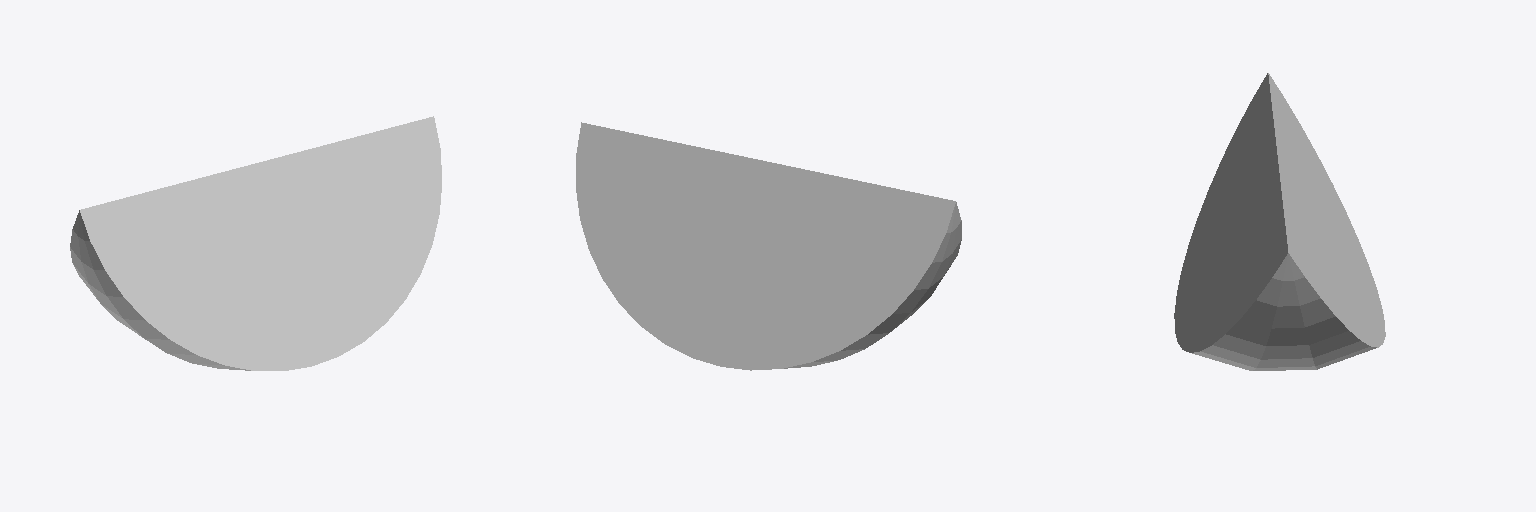
Rendered from watermelon_slice.obj.
3 views of the same model, side by side, from view 1: azimuth 30°, elevation 25°; view 2: azimuth 150°, elevation 25°; view 3: azimuth 270°, elevation 25° (orthographic).
Visible parts, largest first — view 1: Inst3D24_RefRep.189; view 2: Inst3D24_RefRep.189; view 3: Inst3D24_RefRep.189.
Boxes of the visible parts, x1,y1,x2,y2 form: Inst3D24_RefRep.189: [70, 116, 441, 370]; Inst3D24_RefRep.189: [576, 122, 961, 370]; Inst3D24_RefRep.189: [1174, 73, 1385, 370].
Bounding box in the file's own units: 4.04 × 2.01 × 2.03.